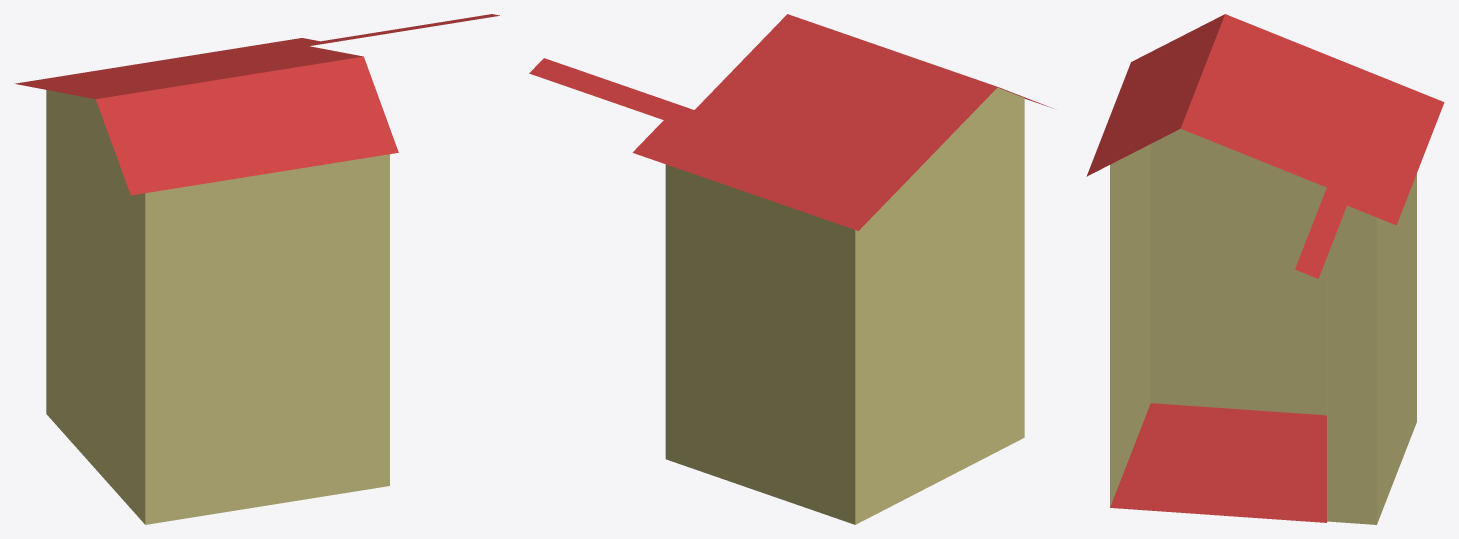
3 renders of one model, left to right at view 1: azimuth 30°, elevation 25°; view 2: azimuth 150°, elevation 25°; view 3: azimuth 270°, elevation 25°, orthographic. The views are drawn at different scales.
Bounding box in the file's own units: 10.65 × 7.5 × 8.87.
